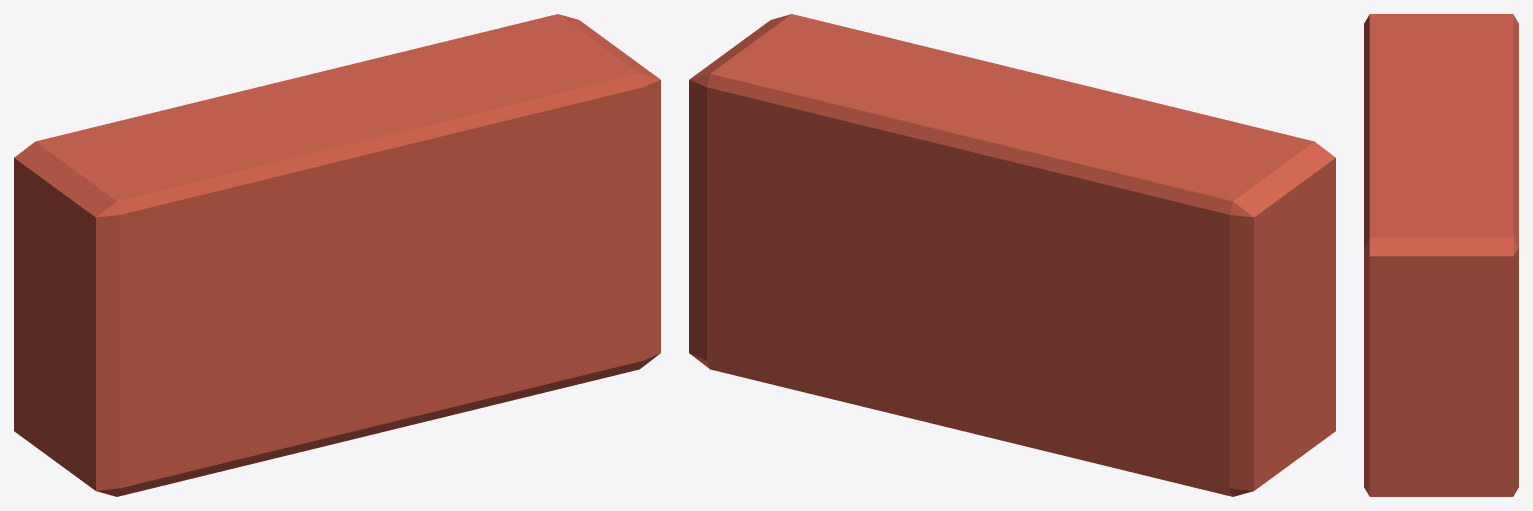
Rendered from brick.fbx.
The picture shows the model from 3 angles, left to right: view 1: azimuth 30°, elevation 25°; view 2: azimuth 150°, elevation 25°; view 3: azimuth 270°, elevation 25°; orthographic projection. The views are drawn at different scales.
Parts seen in each view (by area): view 1: Cube; view 2: Cube; view 3: Cube.
Boxes of the visible parts, x1,y1,x2,y2 form: Cube: (14,14,660,496); Cube: (689,14,1335,496); Cube: (1364,14,1518,496).
Size of the model in its own units: 48 by 24 by 13.
